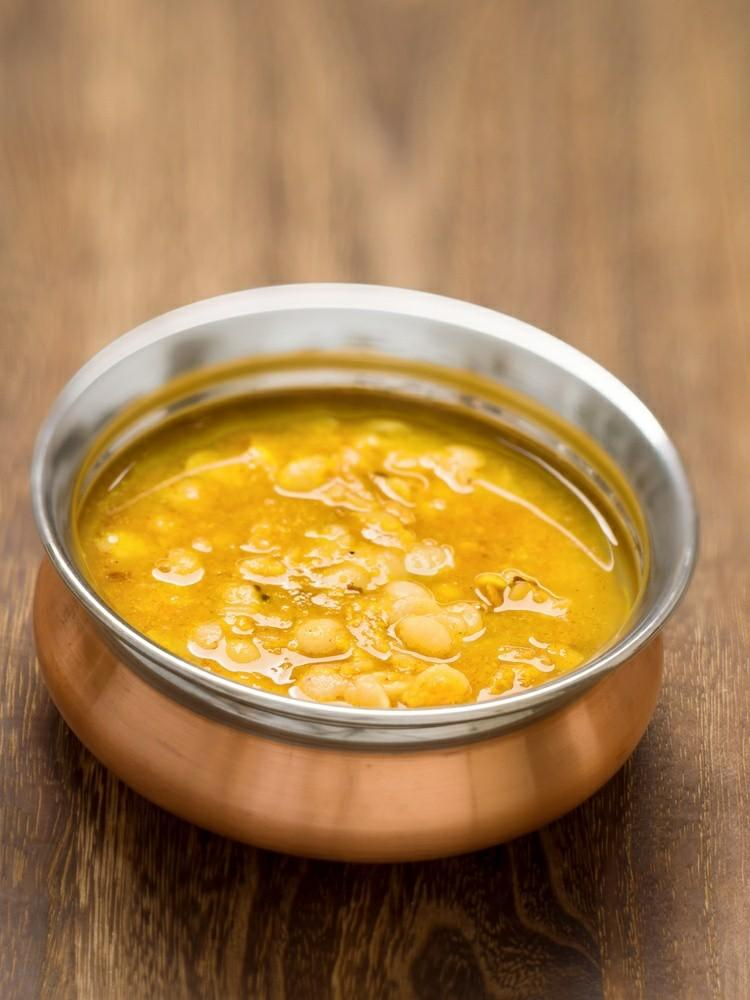Dal: (75, 402, 634, 705)
